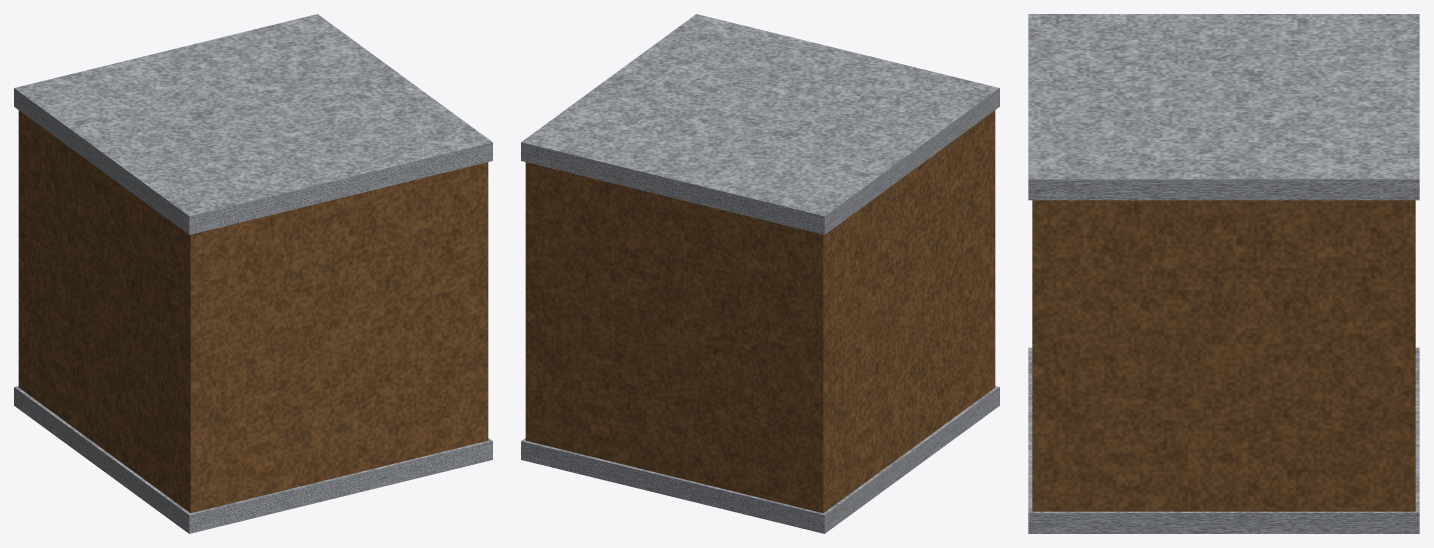
The model's file is obstacle_crate.obj.
3 renders of one model, left to right at view 1: azimuth 30°, elevation 25°; view 2: azimuth 150°, elevation 25°; view 3: azimuth 270°, elevation 25°, orthographic. The views are drawn at different scales.
Size of the model in its own units: 1.02 by 1.02 by 1.02.
Materials: 2 (2 with a texture image).
